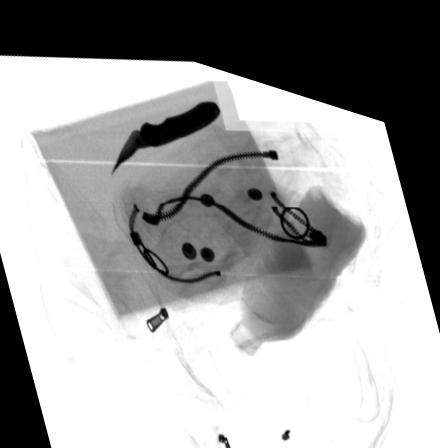Knife: (110, 86, 220, 168)
